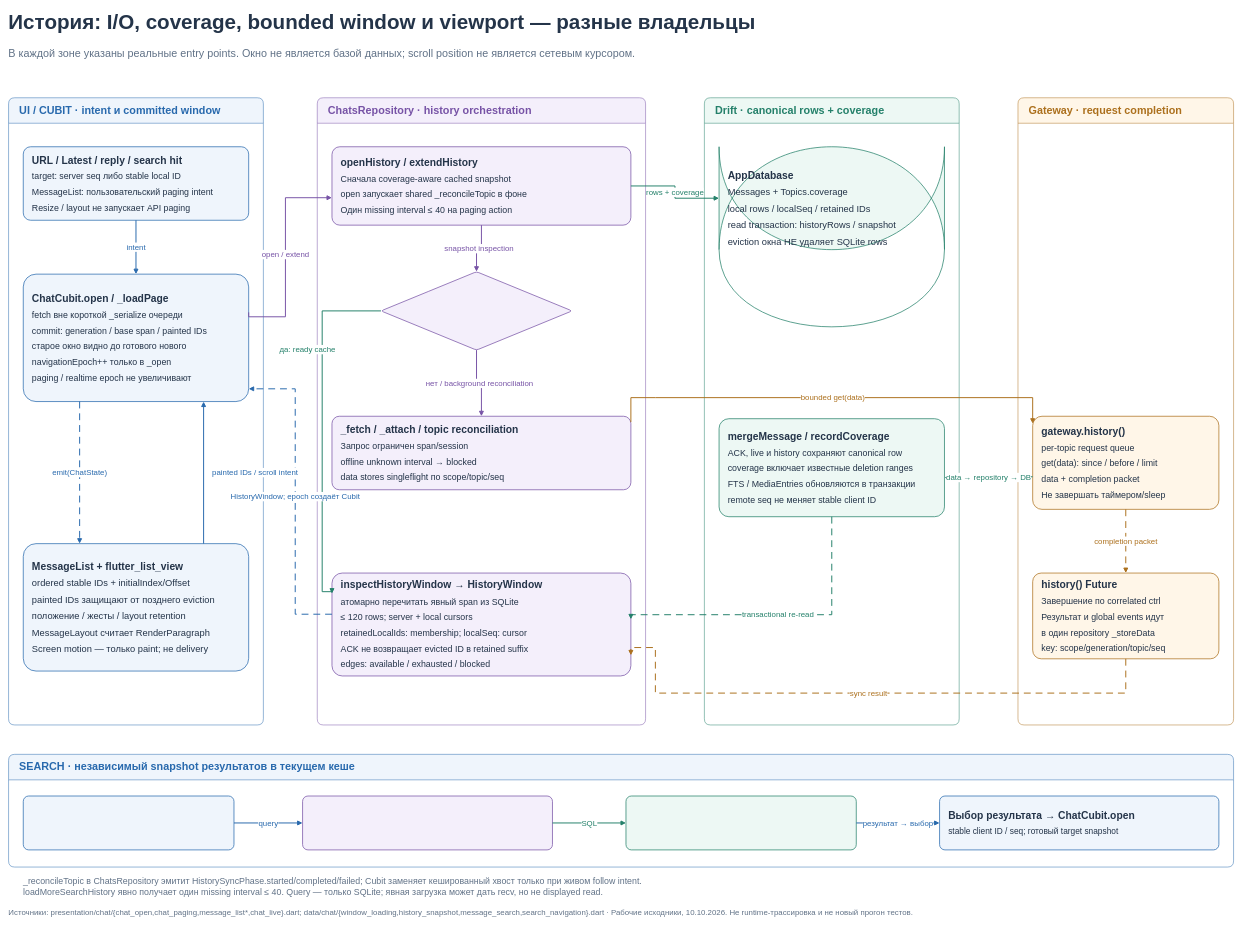
Image size: 1242x934. Some labels were removed from this diagram. The centre of each missing label's shape, as x and y in pixels:
"ChatsRepository.searchMessages prepareSearch: batch ≤ 40 cached rows" goes at (427,822).
"Drift MessageSearch + FTS5 unicode61; derived visible text" goes at (740,822).
"MessageSearchCubit debounce / generation / cursor stack" goes at (128,822).
"Кеша достаточно? С учётом coverage и точного target" goes at (476,310).
